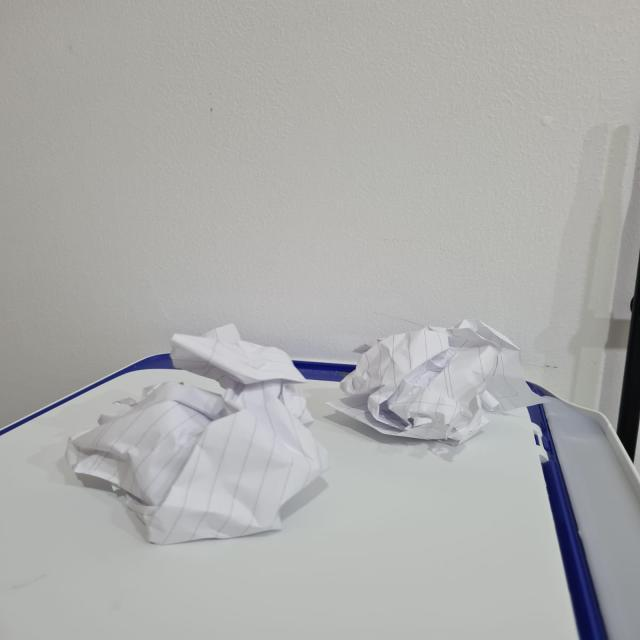Paper: (60, 321, 329, 541), (332, 323, 528, 449)
